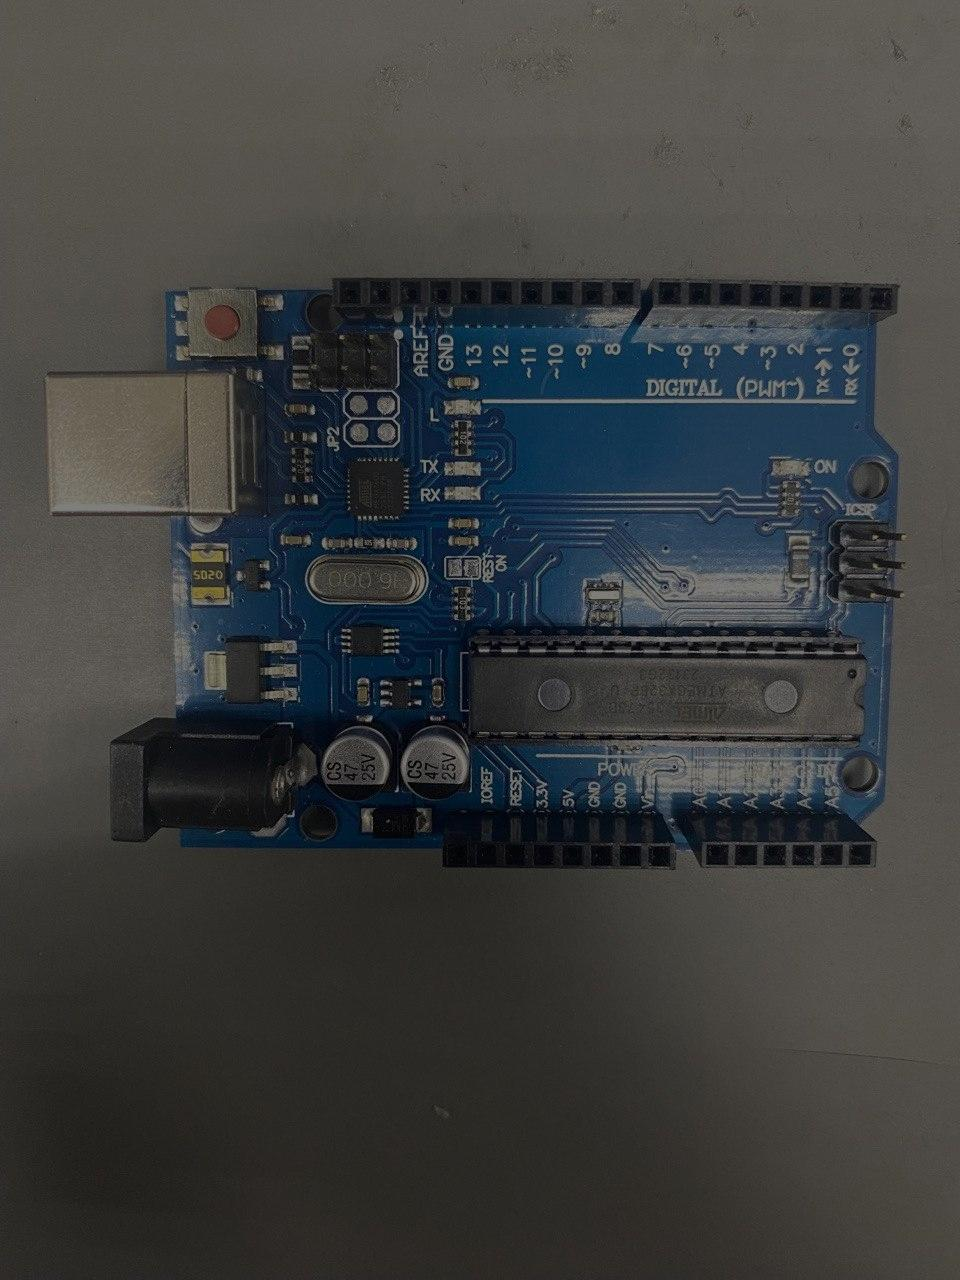ATmega328 chip: (470, 635, 868, 748)
Arduino board: (44, 278, 908, 870)
USB: (44, 371, 268, 517)
capacitor: (322, 725, 394, 802), (400, 725, 469, 800)
pins: (332, 278, 641, 327), (636, 278, 898, 329), (443, 812, 677, 869), (679, 812, 877, 868)
resistor: (453, 420, 474, 456), (291, 448, 312, 484), (452, 587, 473, 621), (782, 481, 801, 517)
